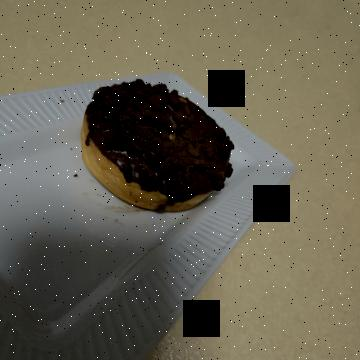doughnut: (64, 108, 228, 302)
